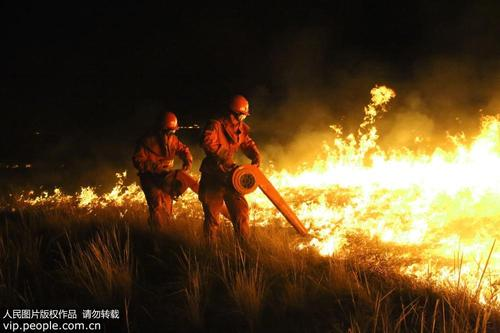fire: (298, 77, 500, 291)
